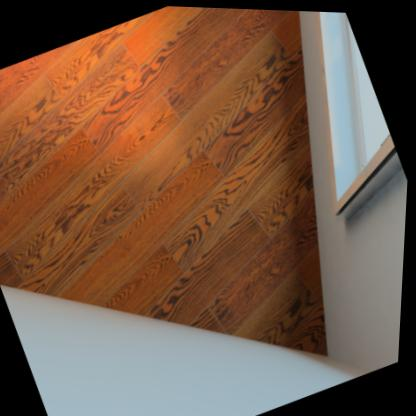Wooden floor: (0, 5, 332, 353)
